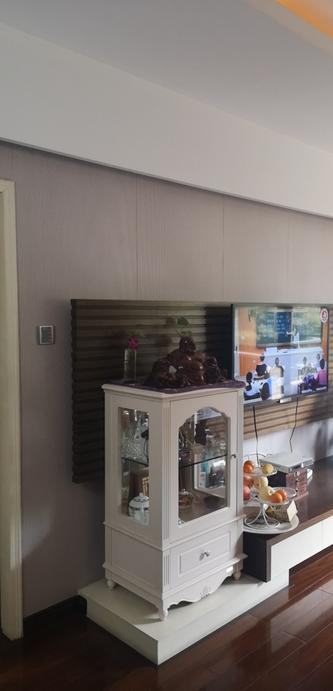switch: (40, 326, 53, 346)
